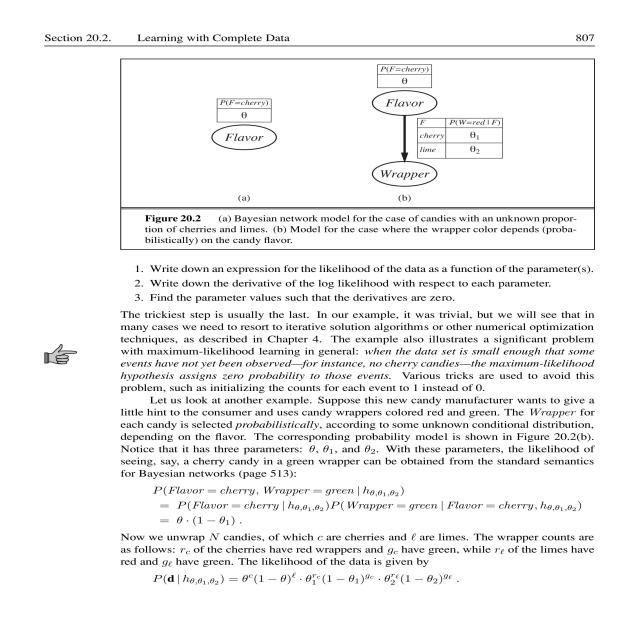diagram: (123, 56, 593, 248)
